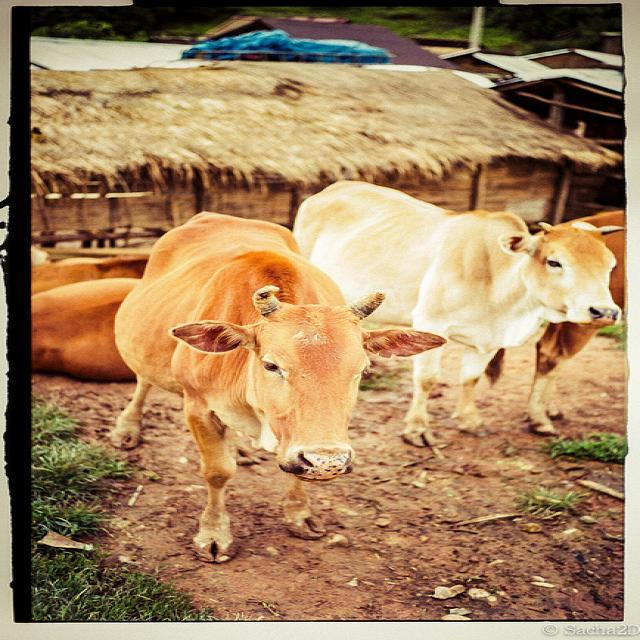cow: (102, 209, 444, 563), (282, 181, 624, 449), (524, 208, 623, 436), (25, 280, 134, 377)
